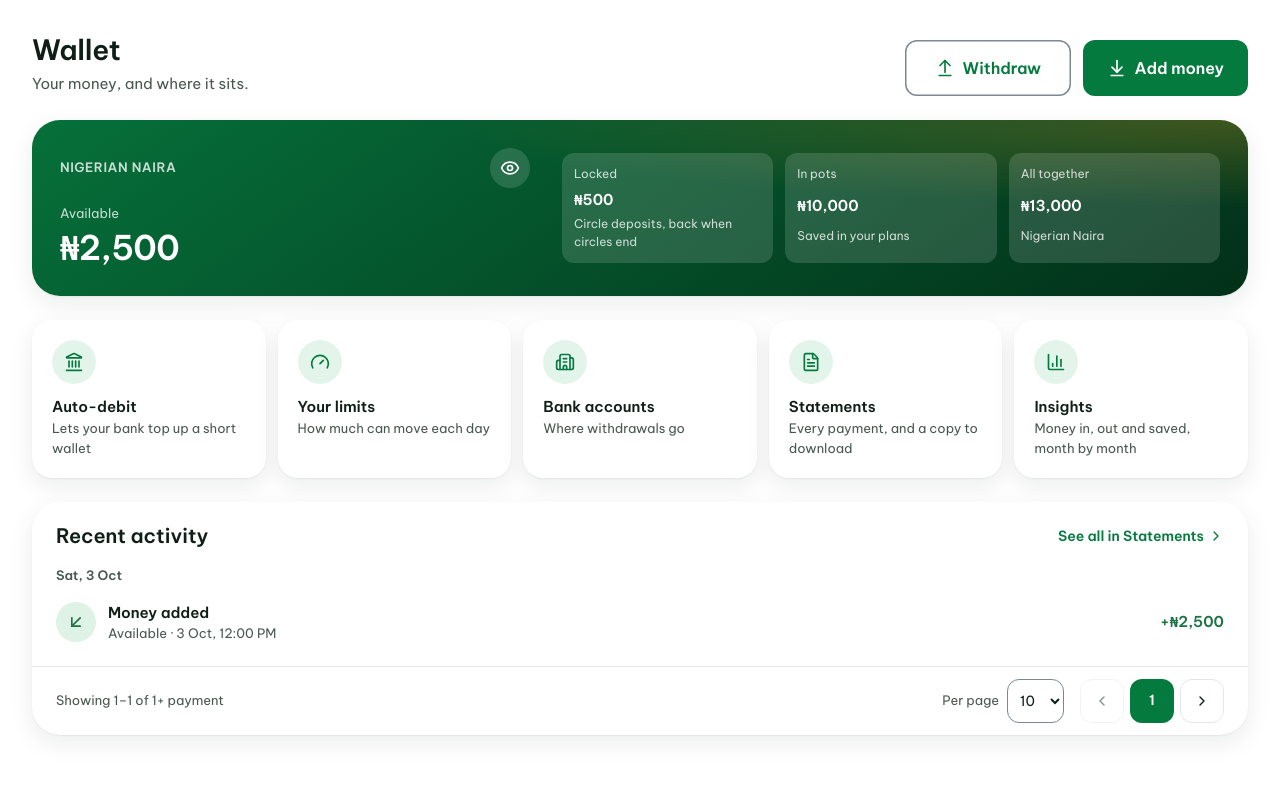
Test: WalletScreen › keeps what is on screen when a later page fails
Click the button named "Next page": (1202, 700) left=1180, top=678, right=1224, bottom=722
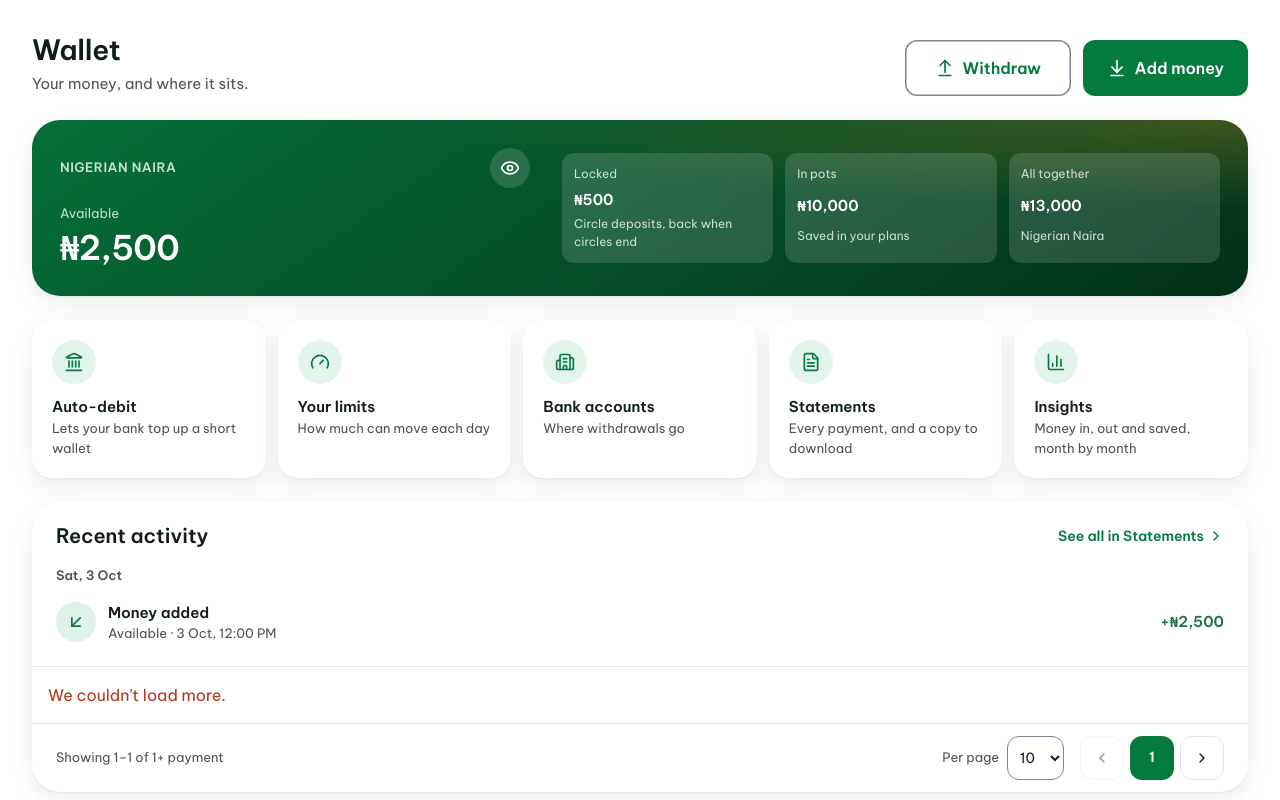
Expected: the number of list items is 1, left=48, top=590, right=1232, bottom=654
Result: the message reads "We couldn't load more." at left=48, top=684, right=226, bottom=704
